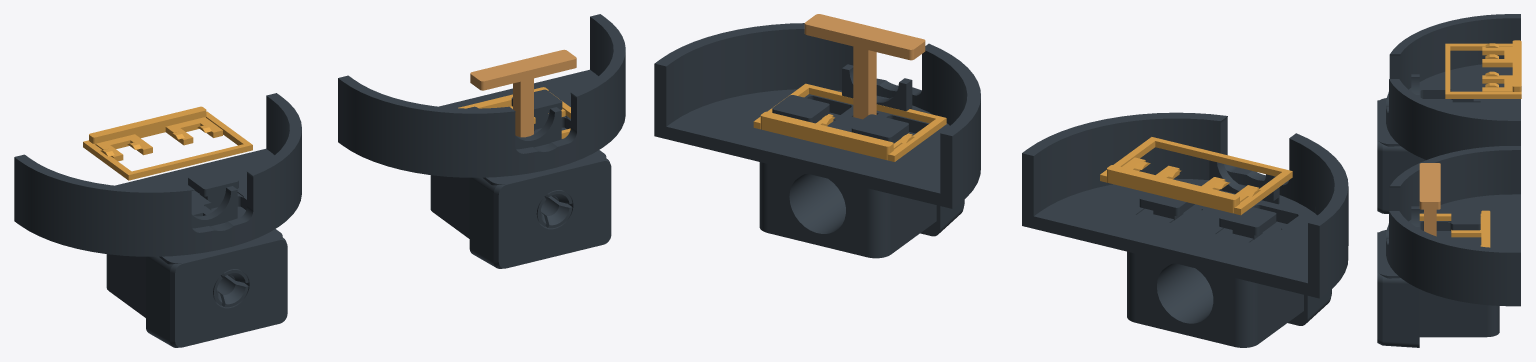
Rendered from mount_installation.glb.
The picture shows the model from 3 angles, left to right: view 1: azimuth 30°, elevation 25°; view 2: azimuth 150°, elevation 25°; view 3: azimuth 270°, elevation 25°; orthographic projection. The views are drawn at different scales.
Visible parts, largest first — view 1: 1_lower_clip_then_slide_toward_USB/rear_end_section/part1, 2_insert_existing_T_keeper/rear_end_section/part1, 1_lower_clip_then_slide_toward_USB/v2_2_fitted_heel_integral, 2_insert_existing_T_keeper/v2_2_fitted_heel_integral_4p35_so, 1_lower_clip_then_slide_toward_USB/v2_2_preload_fork_slide_t, 2_insert_existing_T_keeper/v2_internal_heel_and_socket_keepe, 2_insert_existing_T_keeper/v2_2_preload_fork_slide_toward_US; view 2: 1_lower_clip_then_slide_toward_USB/rear_end_section/part1, 2_insert_existing_T_keeper/rear_end_section/part1, 1_lower_clip_then_slide_toward_USB/v2_2_fitted_heel_integral, 2_insert_existing_T_keeper/v2_2_fitted_heel_integral_4p35_so, 1_lower_clip_then_slide_toward_USB/v2_2_preload_fork_slide_t, 2_insert_existing_T_keeper/v2_2_preload_fork_slide_toward_US, 2_insert_existing_T_keeper/v2_internal_heel_and_socket_keepe; view 3: 2_insert_existing_T_keeper/rear_end_section/part1, 1_lower_clip_then_slide_toward_USB/rear_end_section/part1, 2_insert_existing_T_keeper/v2_2_fitted_heel_integral_4p35_so, 1_lower_clip_then_slide_toward_USB/v2_2_fitted_heel_integral, 1_lower_clip_then_slide_toward_USB/v2_2_preload_fork_slide_t, 2_insert_existing_T_keeper/v2_internal_heel_and_socket_keepe, 2_insert_existing_T_keeper/v2_2_preload_fork_slide_toward_US.
Boxes of the visible parts, x1,y1,x2,y2 form: 1_lower_clip_then_slide_toward_USB/rear_end_section/part1: (14, 93, 301, 256); 2_insert_existing_T_keeper/rear_end_section/part1: (338, 14, 625, 177); 1_lower_clip_then_slide_toward_USB/v2_2_fitted_heel_integral: (106, 168, 287, 347); 2_insert_existing_T_keeper/v2_2_fitted_heel_integral_4p35_so: (430, 89, 611, 268); 1_lower_clip_then_slide_toward_USB/v2_2_preload_fork_slide_t: (83, 106, 252, 180); 2_insert_existing_T_keeper/v2_internal_heel_and_socket_keepe: (470, 49, 576, 137); 2_insert_existing_T_keeper/v2_2_preload_fork_slide_toward_US: (458, 87, 570, 138); 1_lower_clip_then_slide_toward_USB/rear_end_section/part1: (1022, 112, 1348, 298); 2_insert_existing_T_keeper/rear_end_section/part1: (654, 23, 980, 208); 1_lower_clip_then_slide_toward_USB/v2_2_fitted_heel_integral: (1127, 192, 1331, 347); 2_insert_existing_T_keeper/v2_2_fitted_heel_integral_4p35_so: (759, 95, 964, 258); 1_lower_clip_then_slide_toward_USB/v2_2_preload_fork_slide_t: (1100, 137, 1292, 215); 2_insert_existing_T_keeper/v2_2_preload_fork_slide_toward_US: (753, 83, 946, 161); 2_insert_existing_T_keeper/v2_internal_heel_and_socket_keepe: (804, 14, 925, 119); 2_insert_existing_T_keeper/rear_end_section/part1: (1386, 146, 1520, 306); 1_lower_clip_then_slide_toward_USB/rear_end_section/part1: (1386, 14, 1520, 159); 2_insert_existing_T_keeper/v2_2_fitted_heel_integral_4p35_so: (1377, 210, 1499, 347); 1_lower_clip_then_slide_toward_USB/v2_2_fitted_heel_integral: (1377, 78, 1480, 213); 1_lower_clip_then_slide_toward_USB/v2_2_preload_fork_slide_t: (1445, 40, 1521, 98); 2_insert_existing_T_keeper/v2_internal_heel_and_socket_keepe: (1419, 163, 1440, 236); 2_insert_existing_T_keeper/v2_2_preload_fork_slide_toward_US: (1419, 210, 1490, 247).
Size of the model in its own units: 0.134 by 0.0375 by 0.0342.
